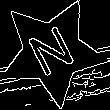N_SE: (23, 21, 81, 84)
